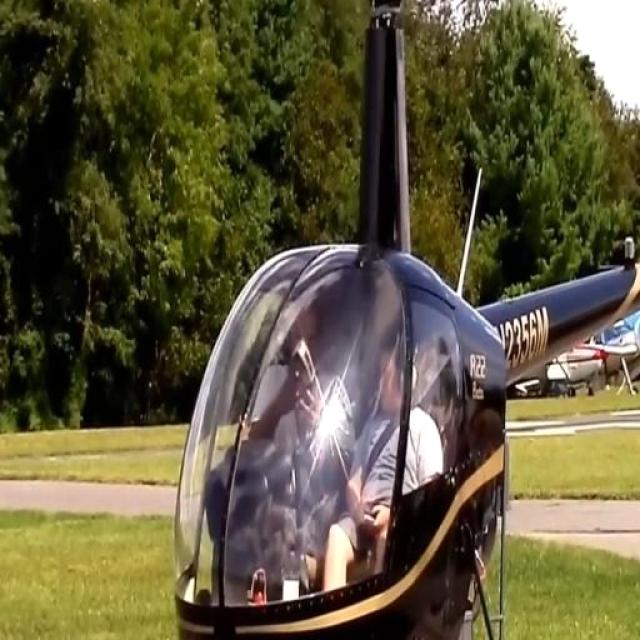drone: (52, 0, 640, 640)
